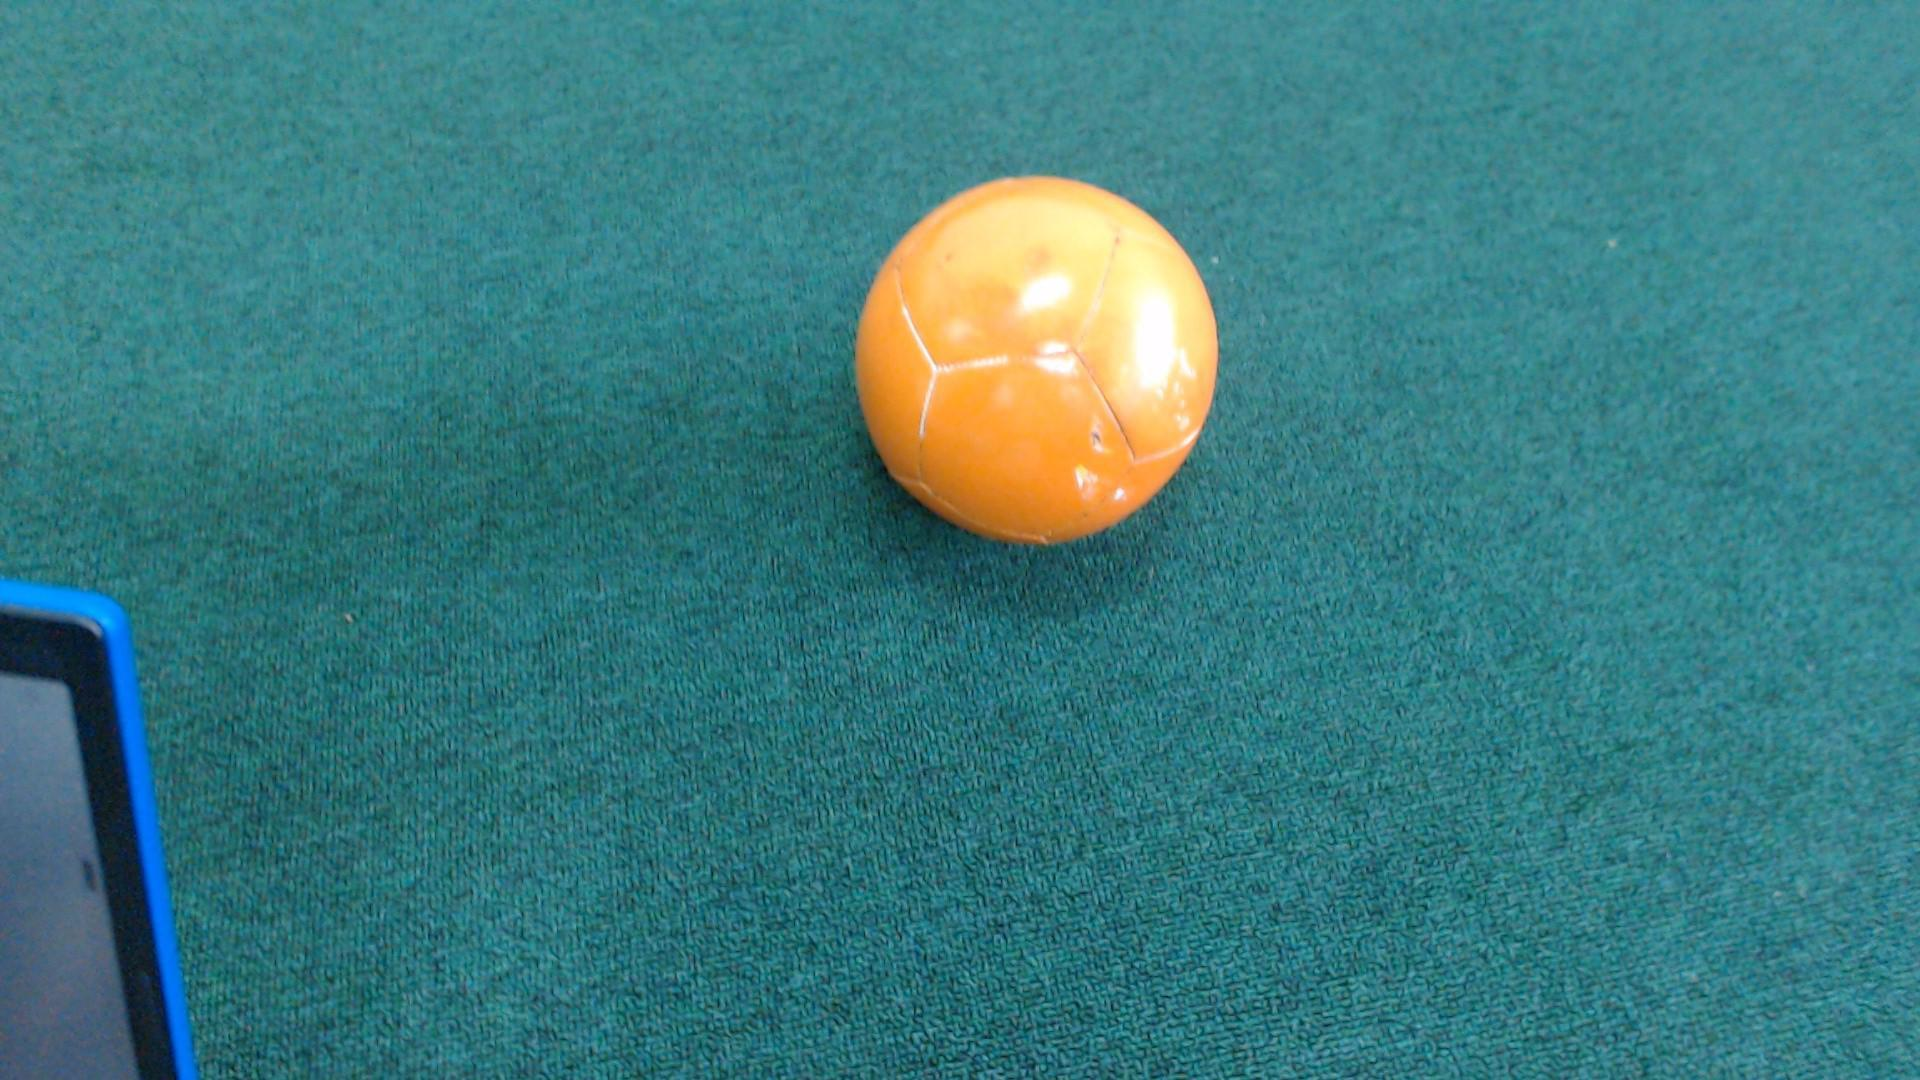bola: (822, 149, 1245, 555)
